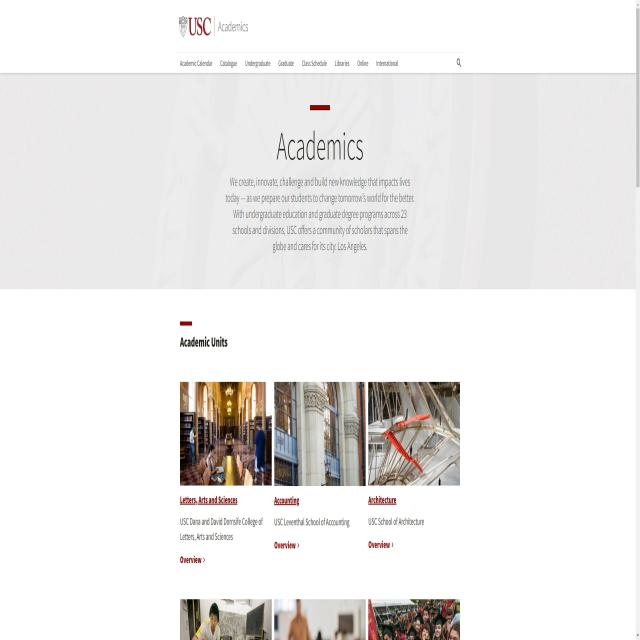menu-bar: (176, 54, 402, 72)
